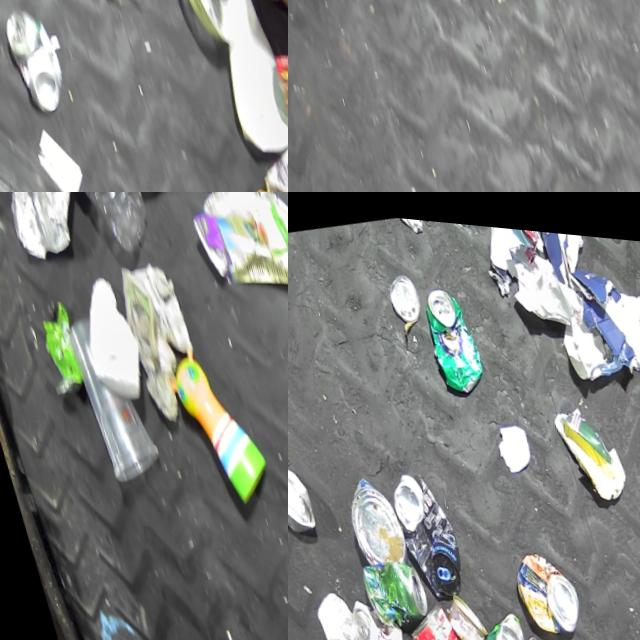can: (378, 458, 466, 597), (0, 0, 79, 121), (413, 273, 487, 391), (502, 535, 581, 633), (333, 464, 405, 564), (353, 546, 428, 627), (394, 588, 491, 640), (336, 584, 410, 640), (434, 581, 487, 640), (257, 29, 288, 126), (460, 599, 530, 640), (381, 264, 423, 320), (288, 445, 313, 533)
plastic_bottle: (39, 192, 152, 261)
